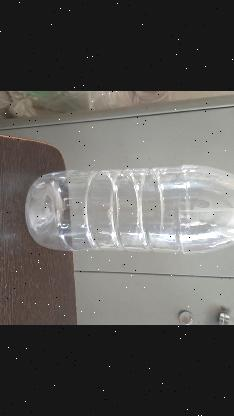Plastic Bottle: (20, 163, 234, 259)
